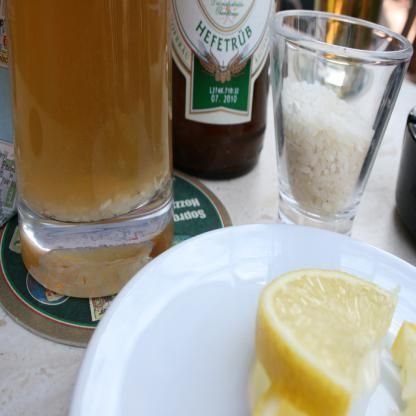lemon: (257, 267, 396, 416)
